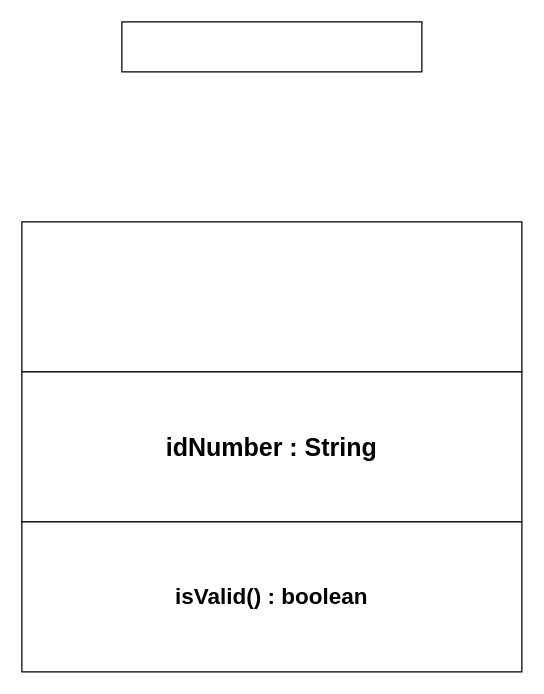
This 544x694 diagram has some shape labels left out. The shapes that lost their labels are listed below. From the top down, each one's centre as x and y in pixels, then its label:
At (271,46): "UML Class Diagram".
At (271,296): "Office".
